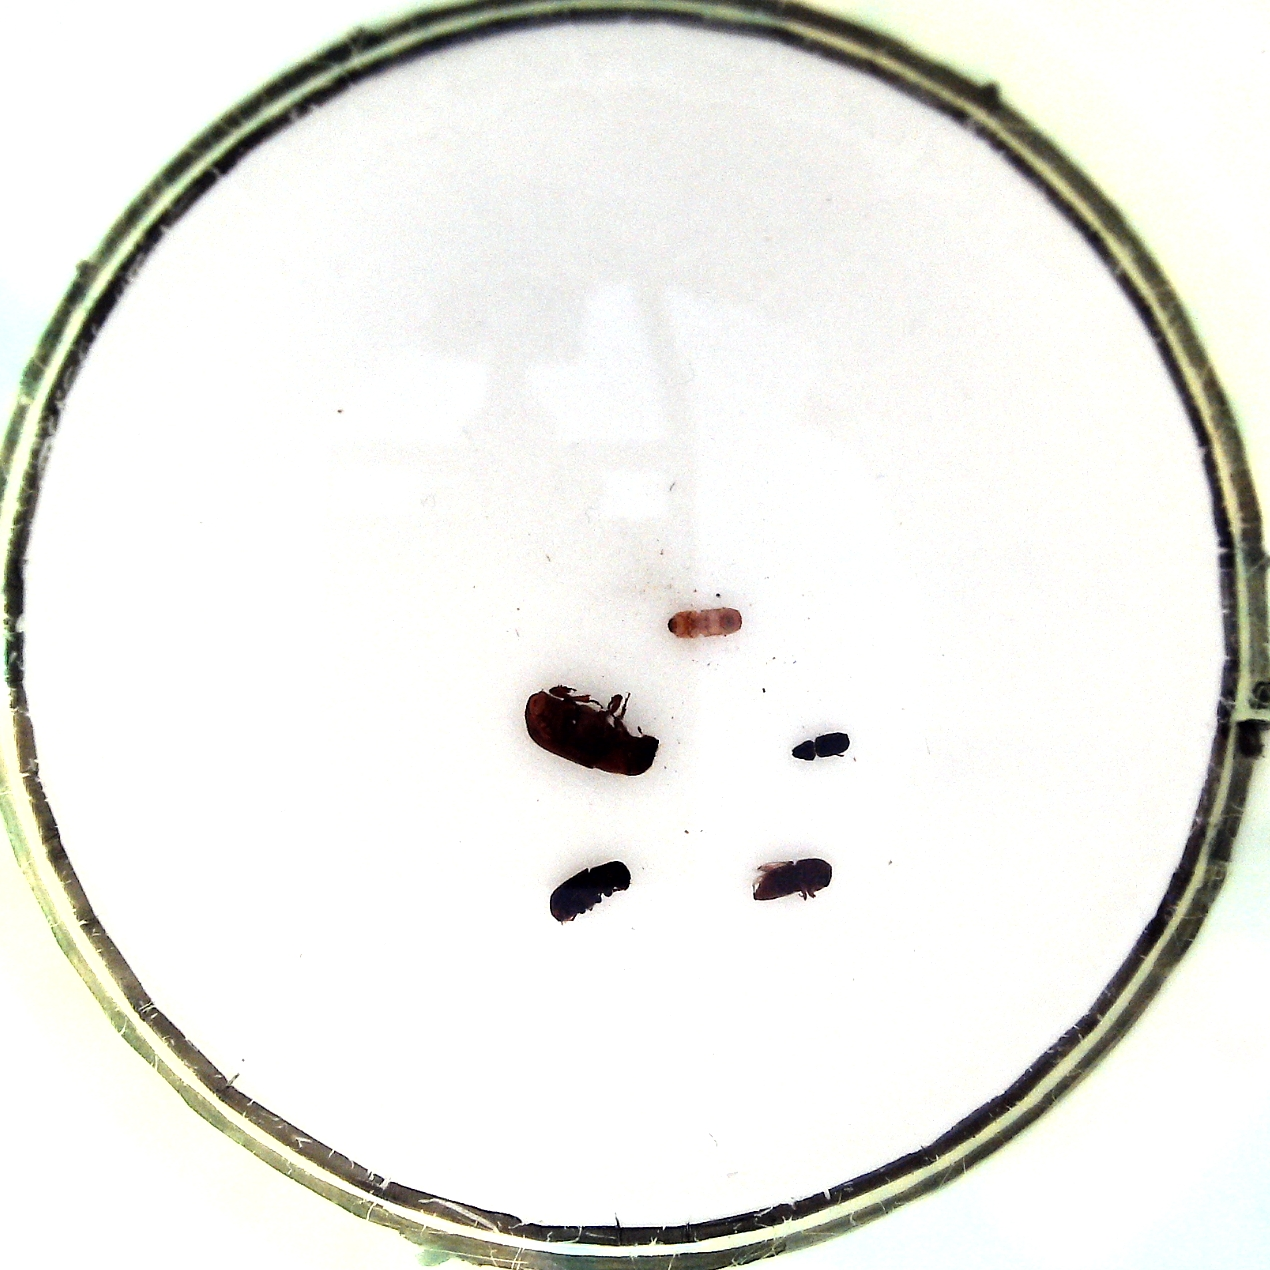Leconte: (522, 682, 659, 779)
Linnaeus: (750, 856, 834, 907)
acuminatus: (661, 605, 748, 641)
armandi: (545, 858, 632, 927)
coleoptera: (789, 728, 852, 766)
